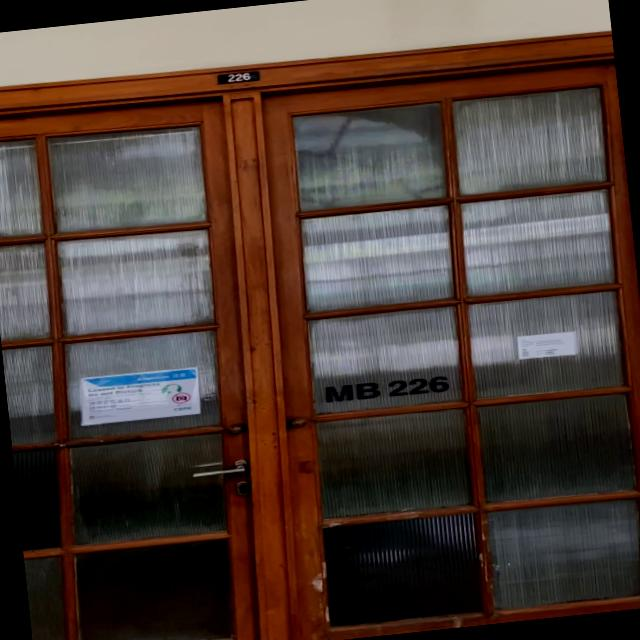room226: (216, 68, 262, 85)
room226Window: (323, 370, 454, 406)
